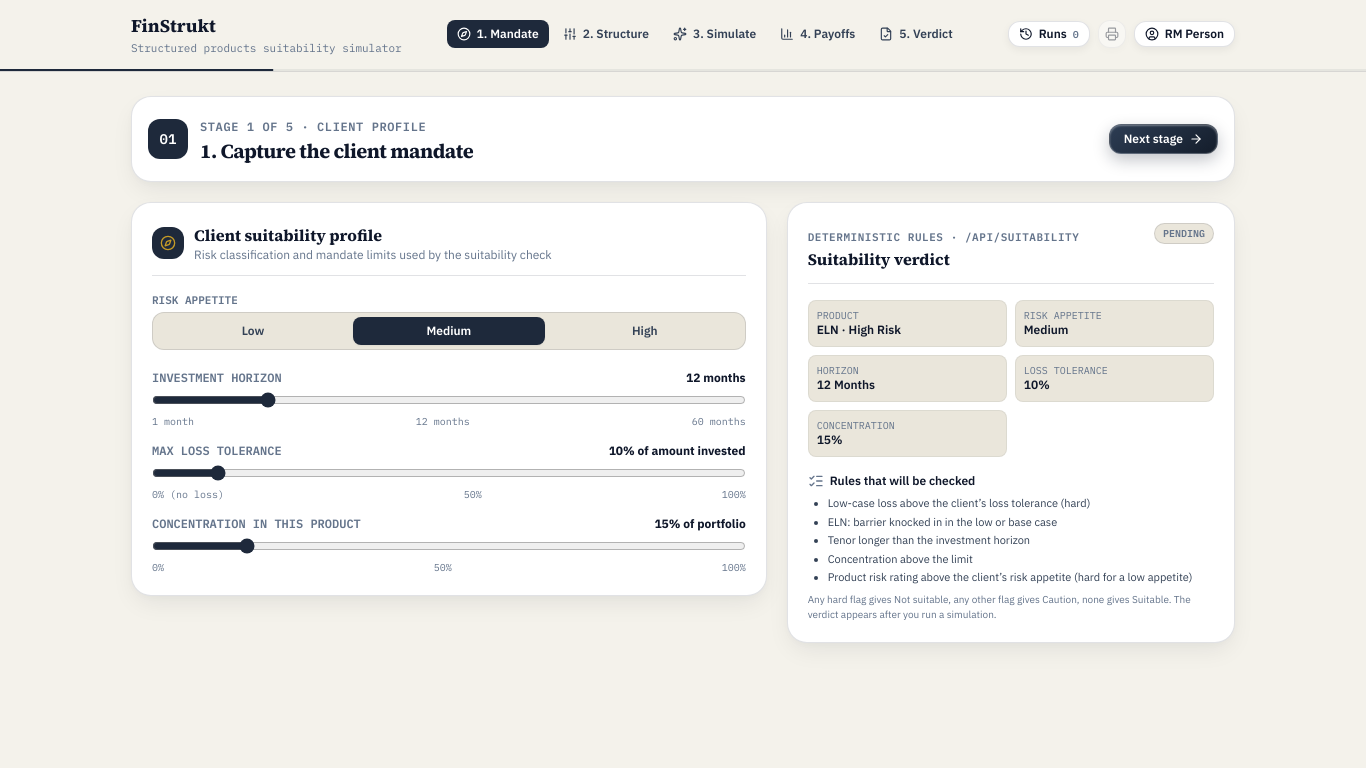
it: saved runs for a user › lists the runs saved to their own account in the Runs window
The width and height of the screenshot is (1366, 768).
What coordinates should you click on to do the following:
click the button "Runs 0"
I would click on:
 (1049, 34)
Its box is [1008,21,1090,47].
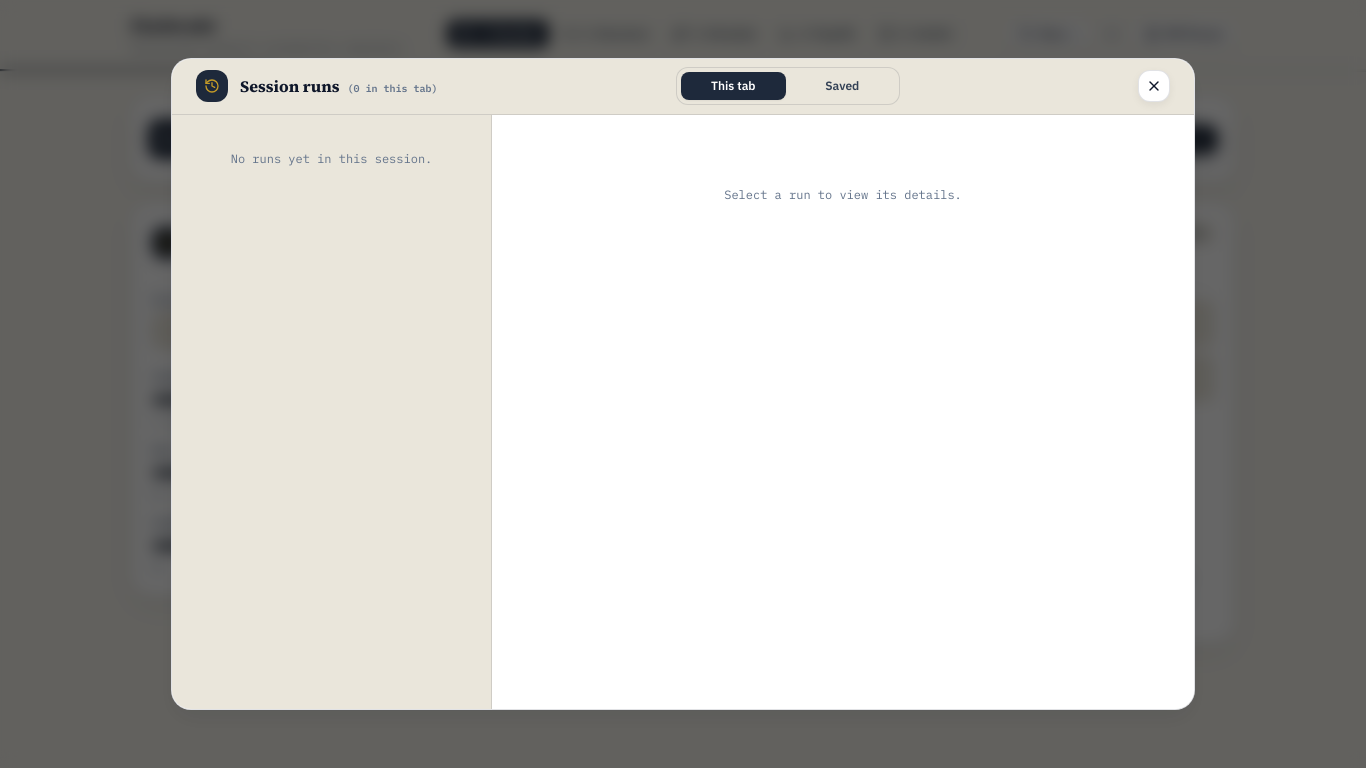
What coordinates should you click on to do the following:
click the radio button labelled "Saved"
I would click on:
 (842, 86)
Its box is [790,72,895,100].
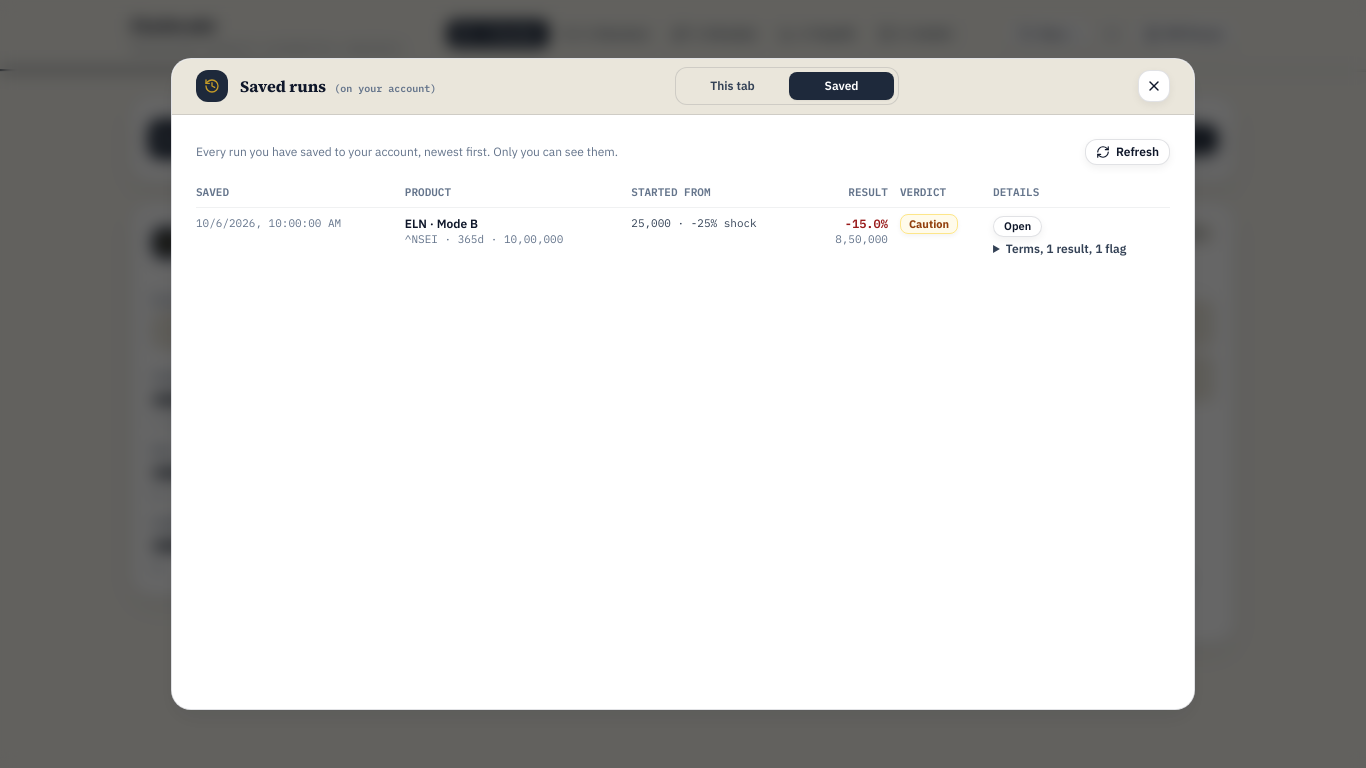
Expected: the text "ELN · Mode B" is shown, [405,216,478,231]
Expected: the text "Caution" is shown, [900,214,958,234]
